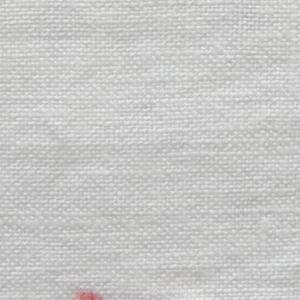Stain: (69, 286, 108, 300)
